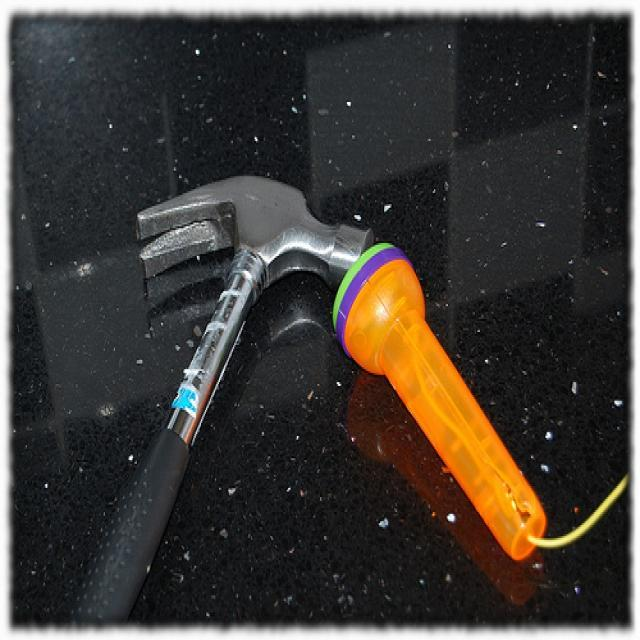hammer: (65, 158, 389, 634)
